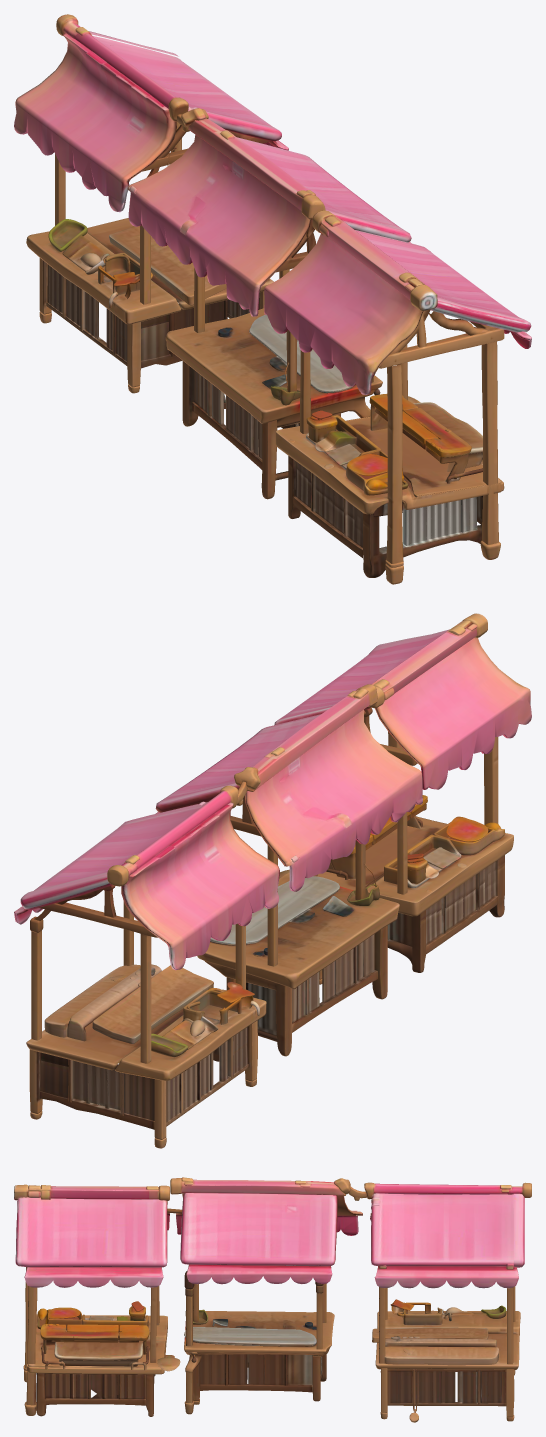
The model's file is toonstudio_market_stall.glb.
3 views of the same model, one above another, from view 1: azimuth 30°, elevation 25°; view 2: azimuth 150°, elevation 25°; view 3: azimuth 270°, elevation 25° (orthographic). The views are drawn at different scales.
Parts seen in each view (by area): view 1: tripo_30d69859_89ac_422b_880a_20dc851ec773; view 2: tripo_30d69859_89ac_422b_880a_20dc851ec773; view 3: tripo_30d69859_89ac_422b_880a_20dc851ec773.
Boxes of the visible parts, x1,y1,x2,y2 form: tripo_30d69859_89ac_422b_880a_20dc851ec773: (14,14,531,584); tripo_30d69859_89ac_422b_880a_20dc851ec773: (14,613,531,1148); tripo_30d69859_89ac_422b_880a_20dc851ec773: (14,1177,531,1422).
Size of the model in its own units: 1.25 by 2.05 by 4.5.
Materials: 1 (1 with a texture image).
